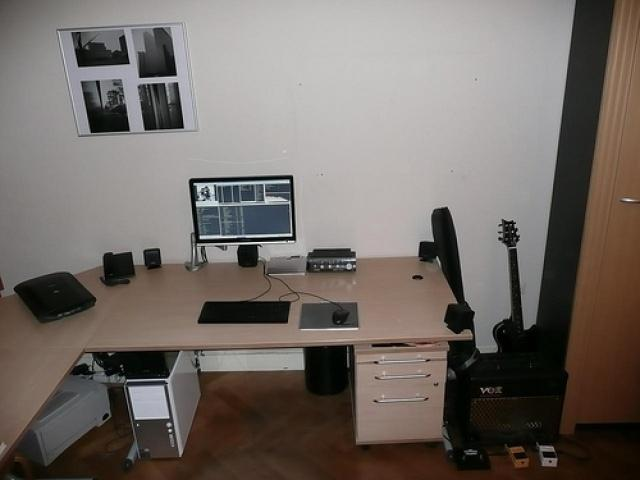AIO PC-Monitor-TV: (187, 174, 296, 246)
Filing Cabinet: (354, 346, 447, 444)
Meja: (80, 251, 473, 354)
